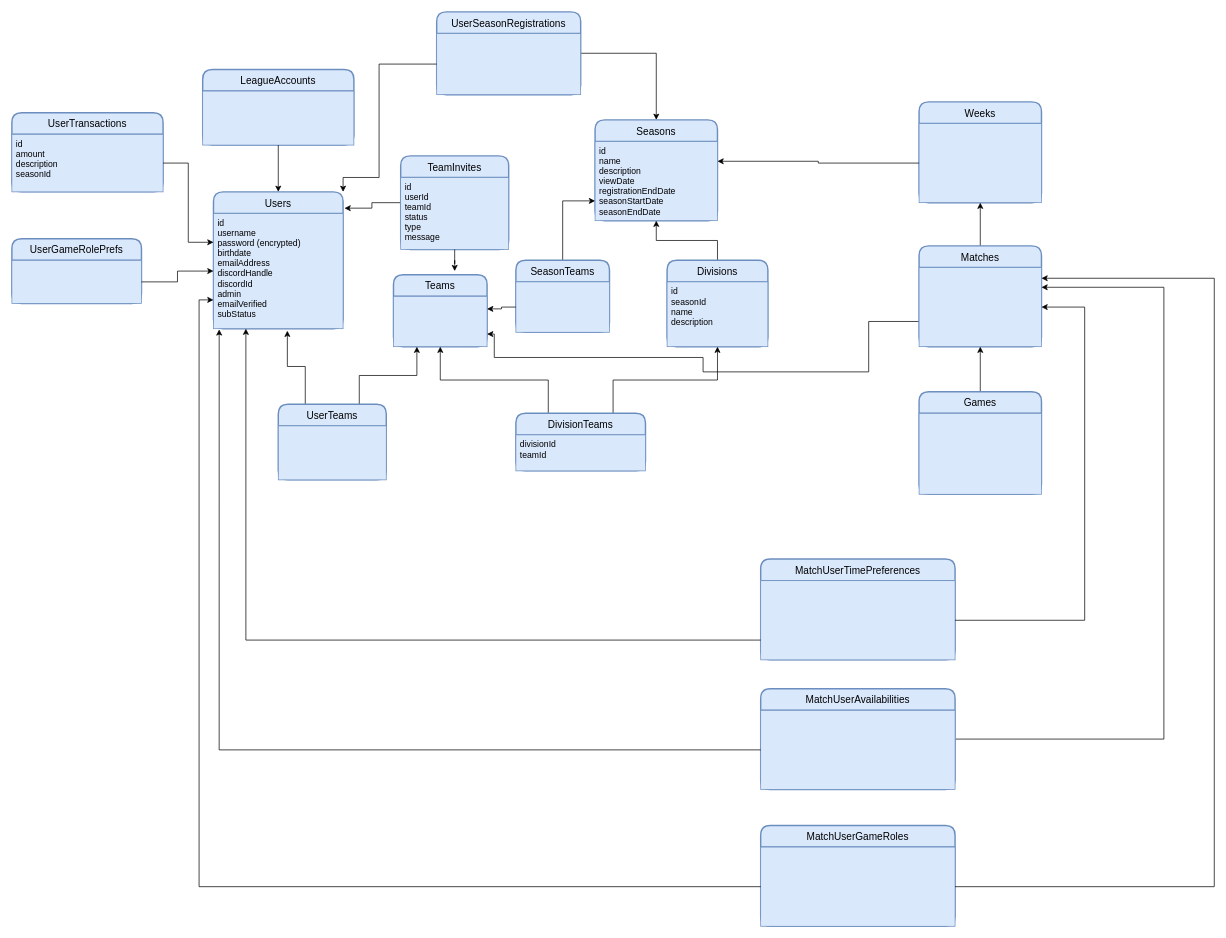
Some shapes in this 1226 by 938 pixel diagram are drawn without their labels. Here are the shapes that lost their labels. From the top down, the centre of each, then its label:
At point 508,64: "id userId seasonId status fill".
At point 278,117: "id userId summonerId username".
At point 979,163: "id seasonId weekNumber startDate endDate".
At point 76,281: "userId role order".
At point 440,321: "id name description logo".
At point 562,306: "teamId seasonId".
At point 979,307: "id weekId proposedDate scheduledDate homeTeamId awayTeamId winningTeamId".
At point 332,452: "userId teamId gameRole captain".
At point 979,453: "id matchId gameNumber winningTeamId proDraftUrl tournamentCode".
At point 857,620: "id userId matchId startDate endDate".
At point 857,749: "id userId matchId status".
At point 857,886: "id userId matchId role".
